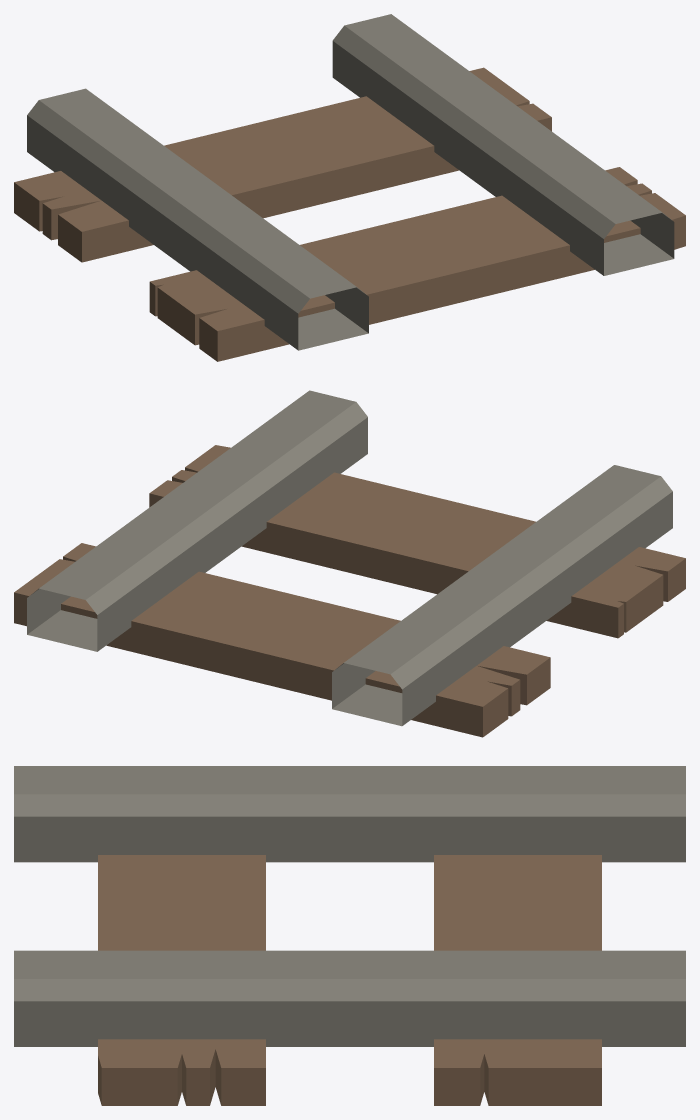
The model's file is Cave_Prop_Railway_Straight_4.obj.
3 renders of one model, top to bottom at view 1: azimuth 30°, elevation 25°; view 2: azimuth 150°, elevation 25°; view 3: azimuth 270°, elevation 25°, orthographic. The views are drawn at different scales.
Parts seen in each view (by area): view 1: object4, object1, object3, object2; view 2: object1, object4, object2, object3; view 3: object4, object1, object2, object3.
Boxes of the visible parts, x1,y1,x2,y2 form: object4: (332,14,674,275); object1: (27,88,368,350); object3: (149,167,685,361); object2: (14,67,551,262); object1: (332,465,672,726); object4: (27,390,367,651); object2: (14,543,550,737); object3: (149,445,685,638); object4: (14,950,685,1046); object1: (14,766,685,862); object2: (434,855,601,1105); object3: (98,855,265,1105).
Bounding box in the file's own units: 1 × 0.15 × 1.
